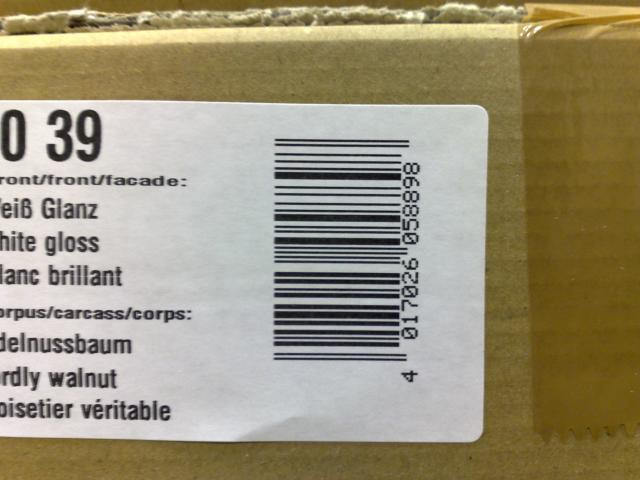Barcode: (258, 122, 438, 402)
